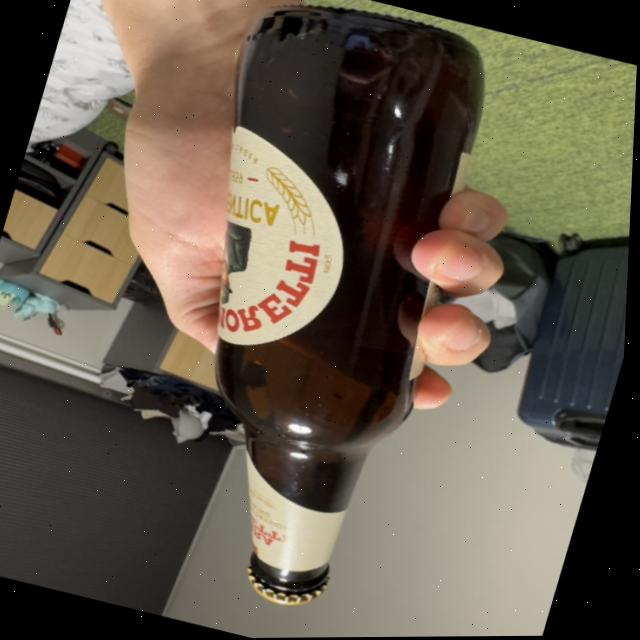beer: (91, 0, 525, 629)
